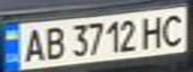1: (103, 17, 124, 54)
2: (118, 16, 142, 53)
3: (66, 21, 90, 57)
7: (84, 19, 106, 56)
A: (18, 25, 48, 63)
B: (39, 24, 69, 62)
C: (157, 10, 190, 47)
H: (139, 12, 169, 50)
